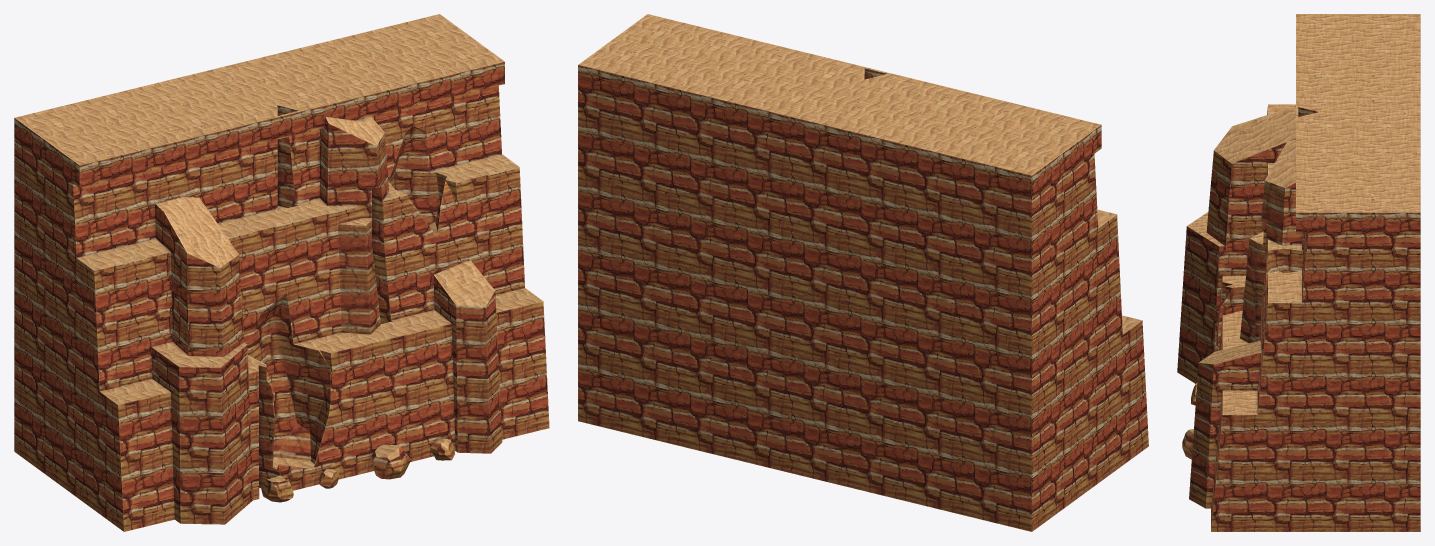
File: canyon_edge_01.glb
3 views of the same model, side by side, from view 1: azimuth 30°, elevation 25°; view 2: azimuth 150°, elevation 25°; view 3: azimuth 270°, elevation 25° (orthographic). The views are drawn at different scales.
Parts seen in each view (by area): view 1: canyon_edge_01; view 2: canyon_edge_01; view 3: canyon_edge_01.
Boxes of the visible parts, left/top/right/bottom form: canyon_edge_01: left=14, top=14, right=549, bottom=531; canyon_edge_01: left=578, top=14, right=1148, bottom=531; canyon_edge_01: left=1177, top=14, right=1420, bottom=531.
Size of the model in its own units: 16 by 12 by 8.29.
Materials: 1 (1 with a texture image).
